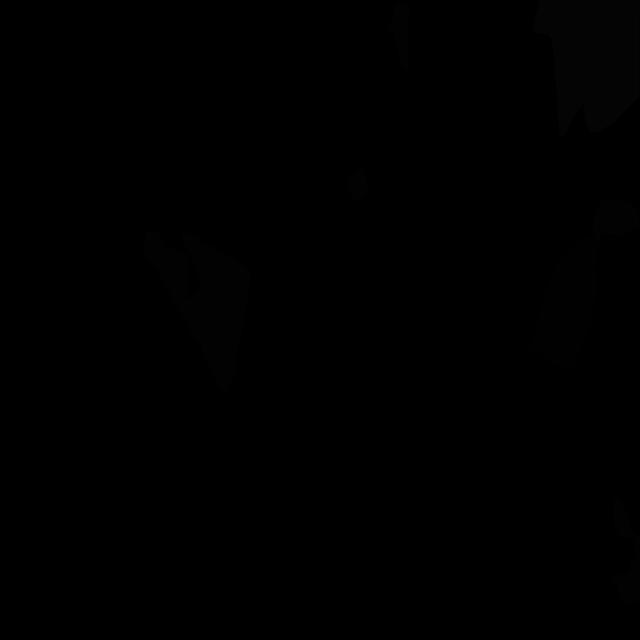cardboard: (143, 229, 252, 397), (612, 497, 640, 605), (592, 199, 640, 241), (387, 1, 410, 71), (344, 165, 370, 203)
rigid_plastic: (529, 234, 598, 371)
soft_plastic: (533, 0, 640, 137)
